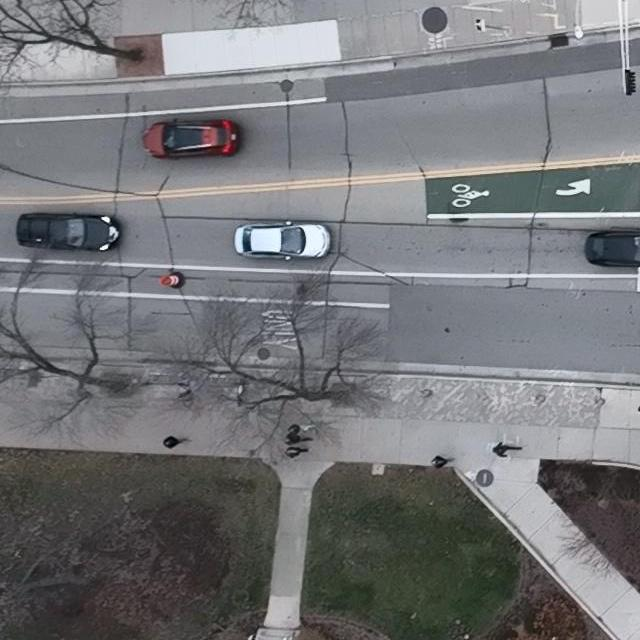car: (16, 211, 121, 253), (142, 118, 239, 160), (234, 220, 331, 261), (585, 230, 640, 268)
